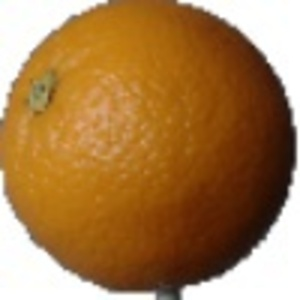laranja: (5, 3, 296, 297)
